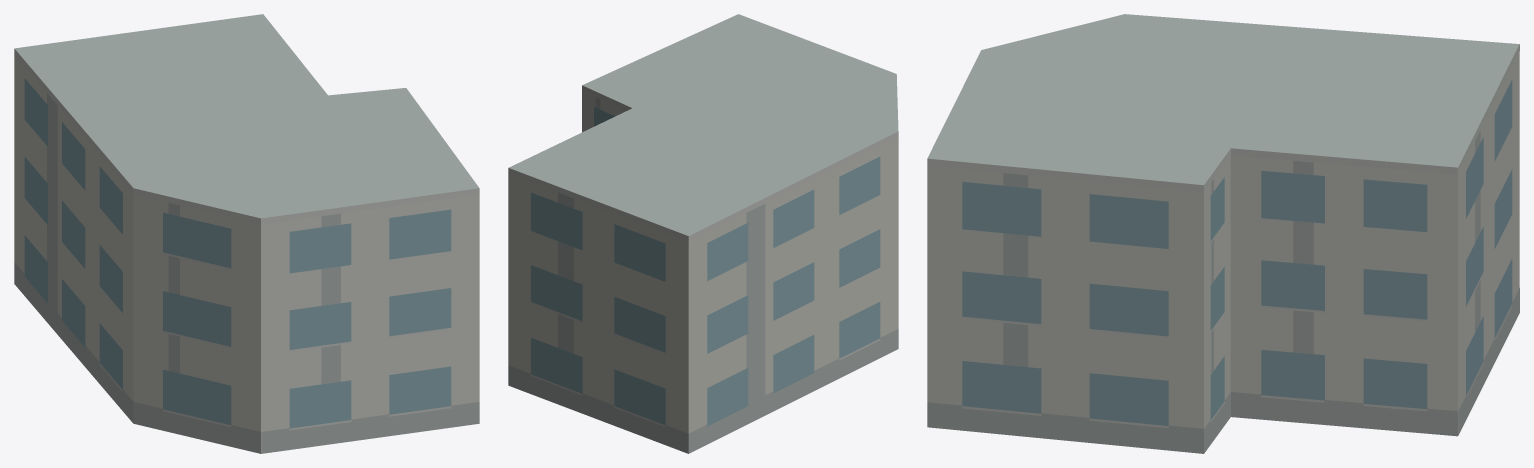
Rendered from survey-upis-32780821.glb.
3 renders of one model, left to right at view 1: azimuth 30°, elevation 25°; view 2: azimuth 150°, elevation 25°; view 3: azimuth 270°, elevation 25°, orthographic. The views are drawn at different scales.
Visible parts, largest first — view 1: survey-upis-32780821.tmp; view 2: survey-upis-32780821.tmp; view 3: survey-upis-32780821.tmp.
Boxes of the visible parts, x1,y1,x2,y2 form: survey-upis-32780821.tmp: [14, 14, 479, 453]; survey-upis-32780821.tmp: [508, 14, 898, 453]; survey-upis-32780821.tmp: [927, 14, 1519, 453].
Bounding box in the file's own units: 12.51 × 9.15 × 18.3.
